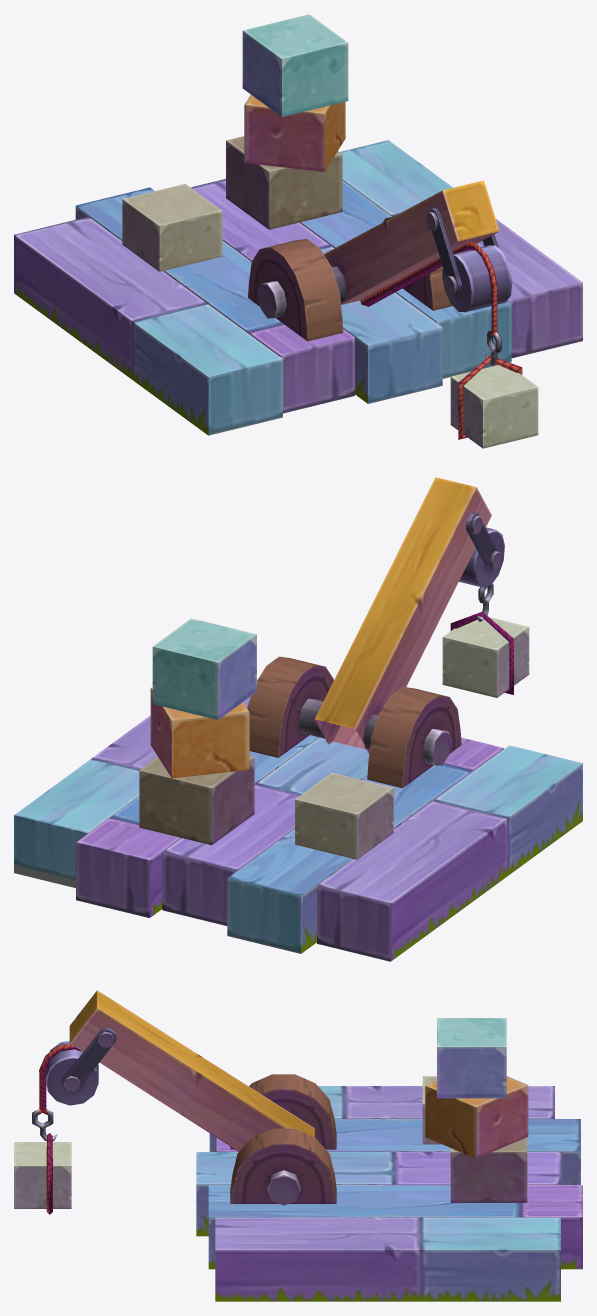
Rendered from scenes_construction_quarry01.FBX.
3 views of the same model, one above another, from view 1: azimuth 30°, elevation 25°; view 2: azimuth 150°, elevation 25°; view 3: azimuth 270°, elevation 25° (orthographic). The views are drawn at different scales.
Parts seen in each view (by area): view 1: scenes_construction_quarry01; view 2: scenes_construction_quarry01; view 3: scenes_construction_quarry01.
Boxes of the visible parts, <box> form: scenes_construction_quarry01: <box>14,14,582,448</box>; scenes_construction_quarry01: <box>14,477,582,961</box>; scenes_construction_quarry01: <box>14,990,582,1301</box>.
Bounding box in the file's own units: 1047 × 661 × 1537.
